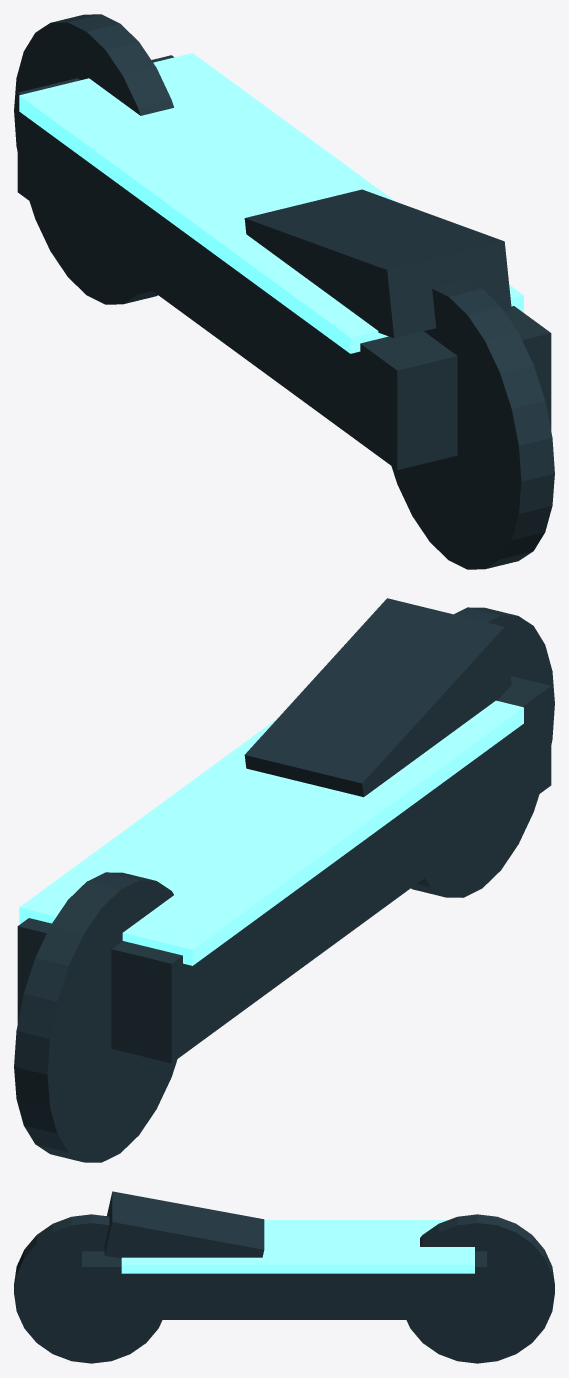
File: rival-flux-cycle.glb
The picture shows the model from 3 angles, top to bottom: view 1: azimuth 30°, elevation 25°; view 2: azimuth 150°, elevation 25°; view 3: azimuth 270°, elevation 25°; orthographic projection. The views are drawn at different scales.
Parts seen in each view (by area): view 1: body, energy_spine, front_wheel, nose, rear_wheel; view 2: body, energy_spine, nose, rear_wheel, front_wheel; view 3: body, energy_spine, rear_wheel, front_wheel, nose.
Boxes of the visible parts, box(x1,y1,x2,y2) form: body: box(17, 55, 551, 470); energy_spine: box(19, 53, 523, 353); front_wheel: box(391, 280, 554, 569); nose: box(244, 189, 511, 338); rear_wheel: box(14, 14, 173, 304); body: box(17, 676, 551, 1063); energy_spine: box(19, 700, 523, 965); nose: box(244, 598, 511, 797); rear_wheel: box(14, 872, 177, 1162); front_wheel: box(411, 607, 554, 897); body: box(82, 1251, 486, 1319); energy_spine: box(121, 1220, 474, 1273); rear_wheel: box(406, 1214, 554, 1363); front_wheel: box(14, 1214, 162, 1363); nose: box(104, 1191, 264, 1258).
Bounding box in the file's own units: 0.62 × 0.9772 × 3.14.
